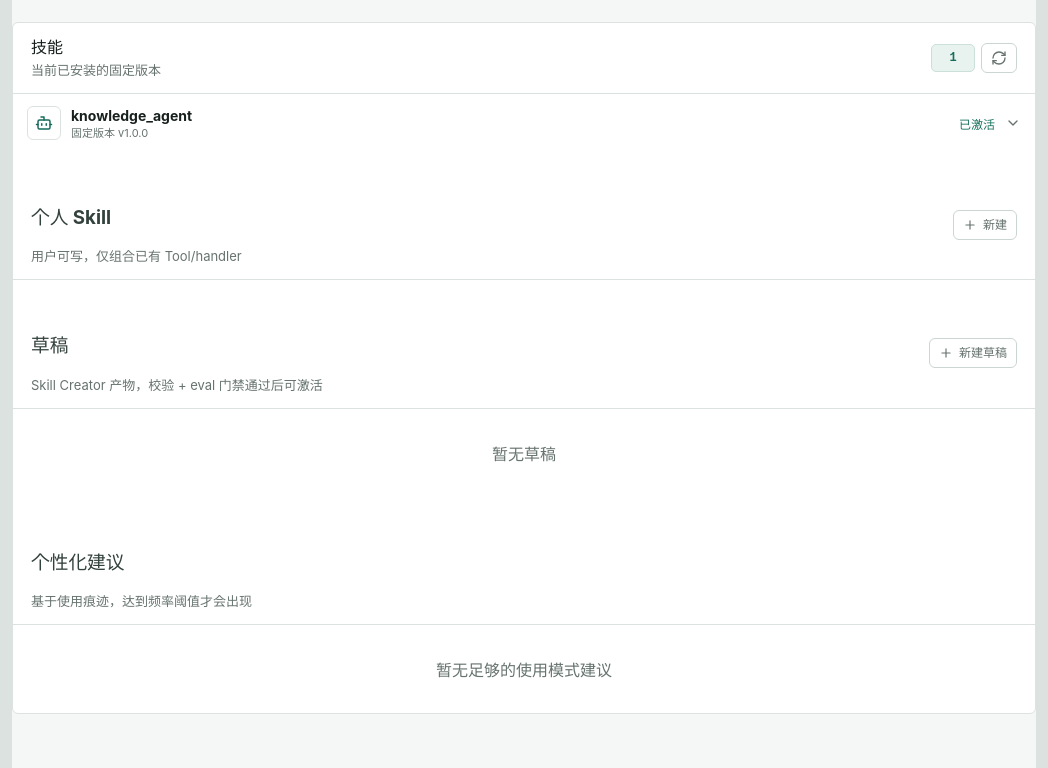
loads the fixed installed Skill set without version-management controls
The width and height of the screenshot is (1048, 768).
Expected: the text "Grounded knowledge requests." is not shown
Click the button "knowledge_agent 固定版本 v1.0.0 已激活" at (44, 123), box [13,94,1035,152]
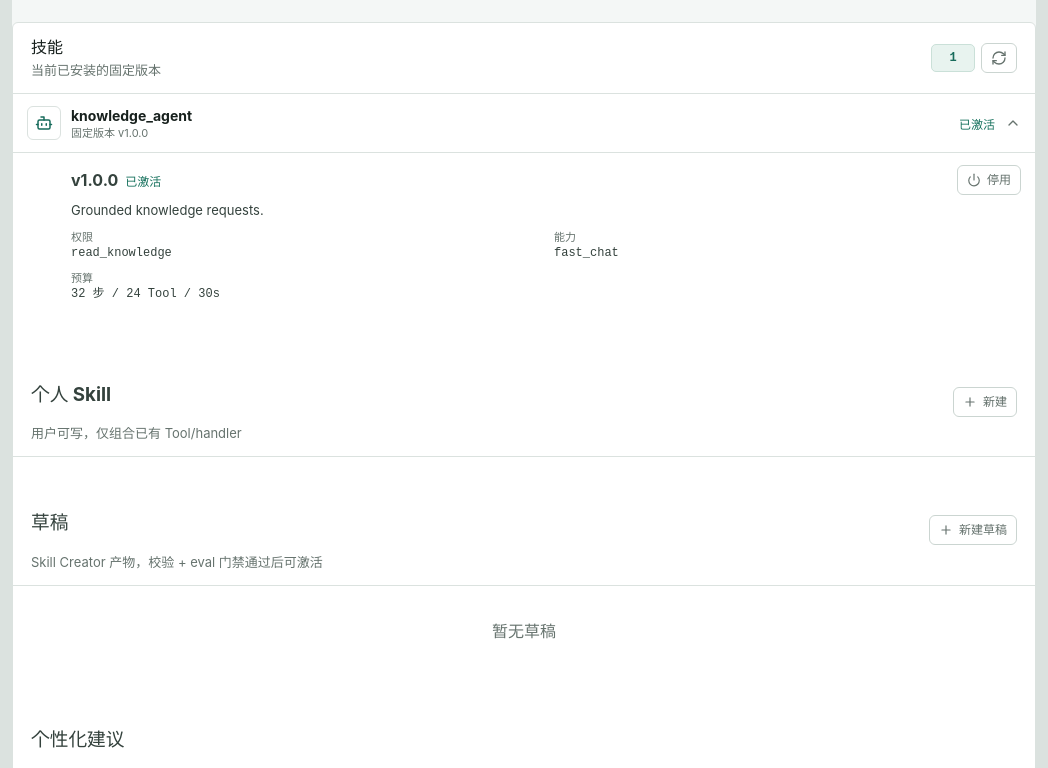
Result: the text "Grounded knowledge requests." is shown at [71,202,264,218]
